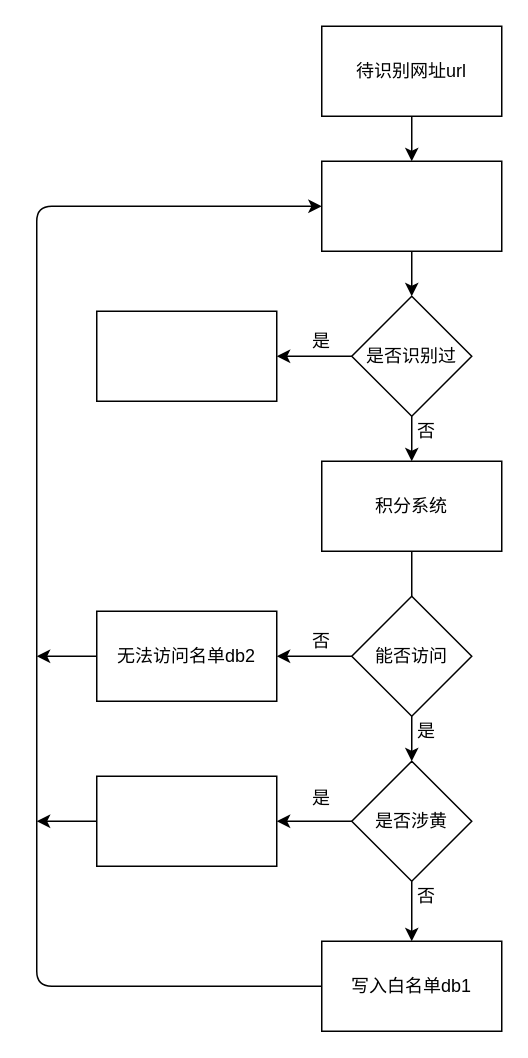
Some shapes in this 528 by 1058 pixel diagram are drawn without their labels. Here are the shapes that lost their labels. From the top down, the box of each, then its label:
(320, 160, 502, 251): 数据库
(95, 310, 277, 401): 查询识别结果
(95, 775, 277, 866): 写入黑名单db0
